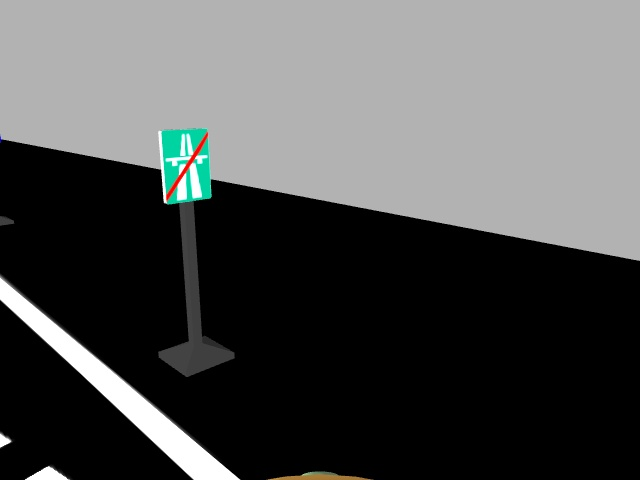HighwayExit: (155, 126, 210, 204)
